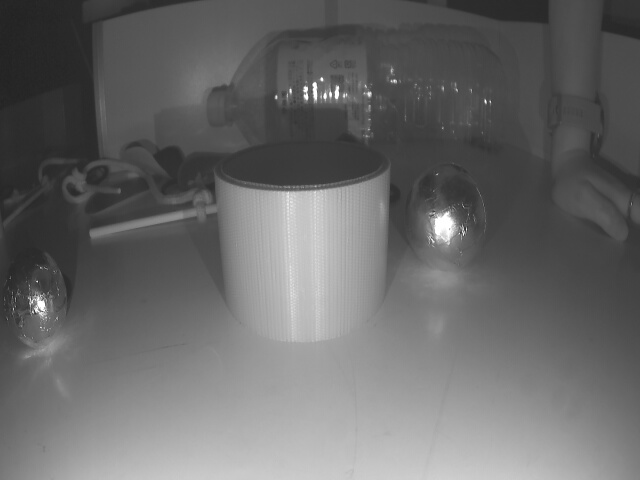Live: (405, 162, 489, 268), (3, 250, 68, 350)
